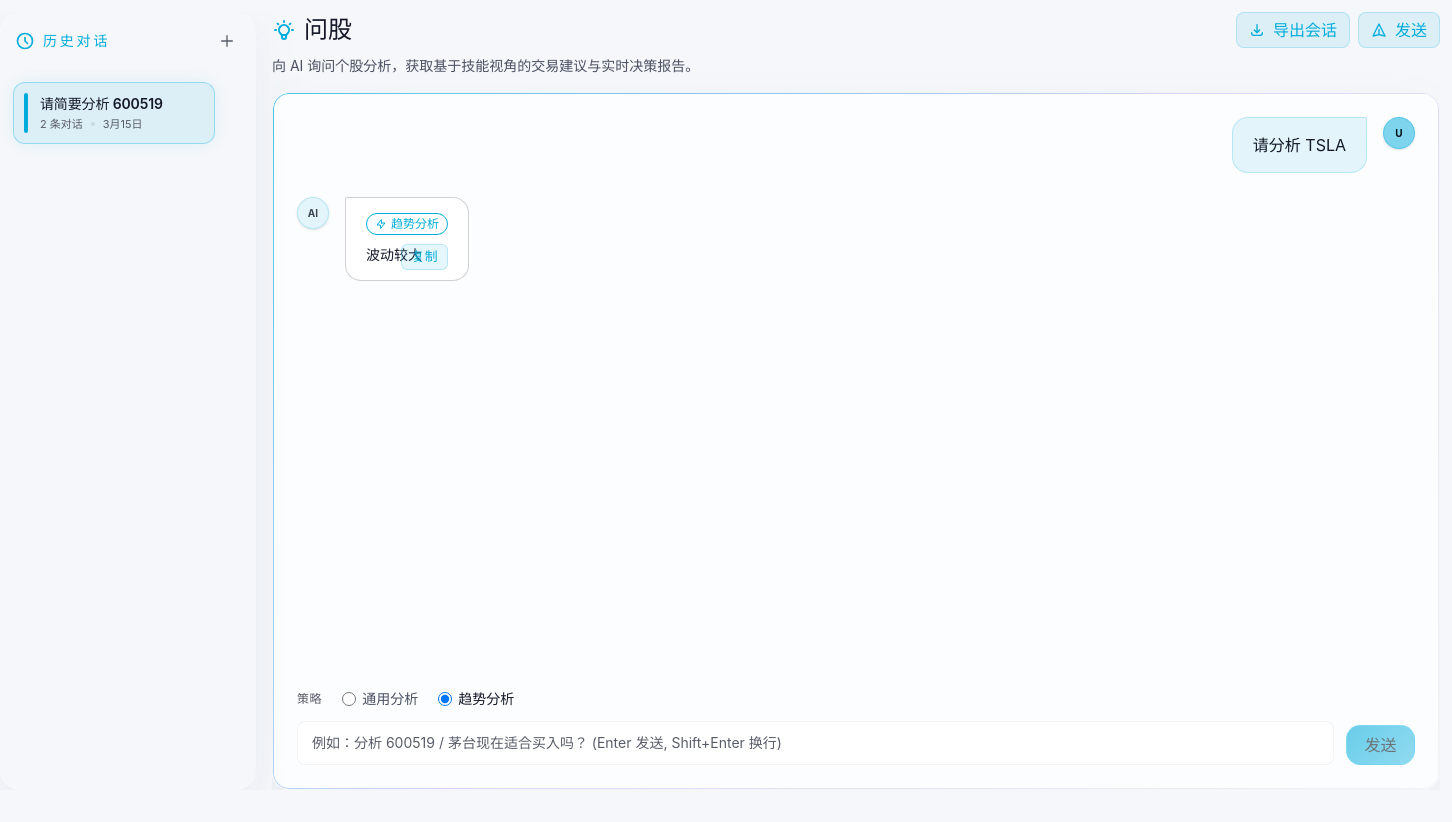
ChatPage › prevents duplicate notification sends while the request is in flight
The width and height of the screenshot is (1452, 822).
Click the button titled "发送到已配置的通知机器人/邮箱" in the row of "问股" at (1399, 30), box [1358, 12, 1440, 48]
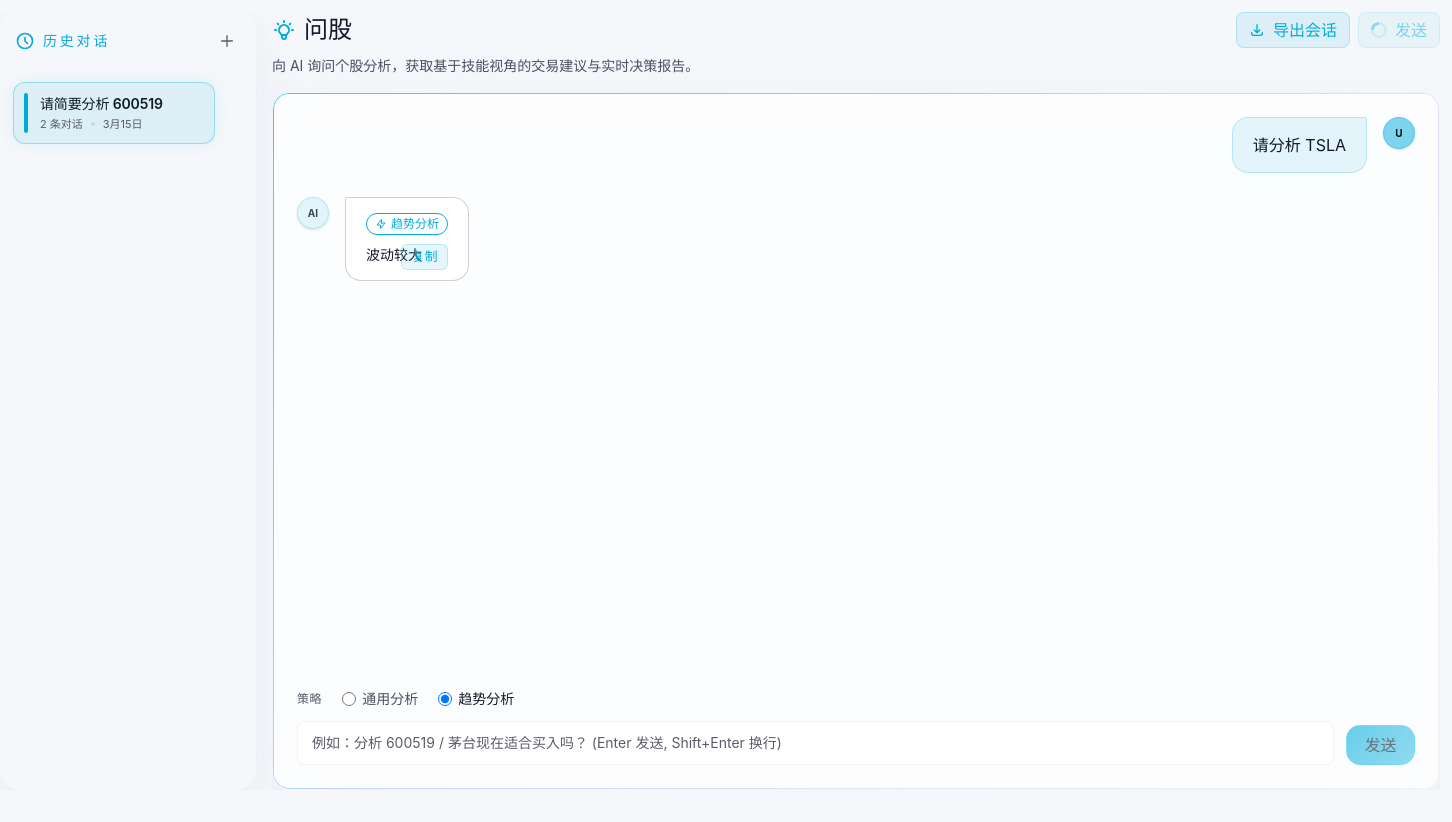
Expected: the button titled "发送到已配置的通知机器人/邮箱" in the row of "问股" is disabled
Click the button titled "发送到已配置的通知机器人/邮箱" in the row of "问股" at (1399, 30), box [1358, 12, 1440, 48]
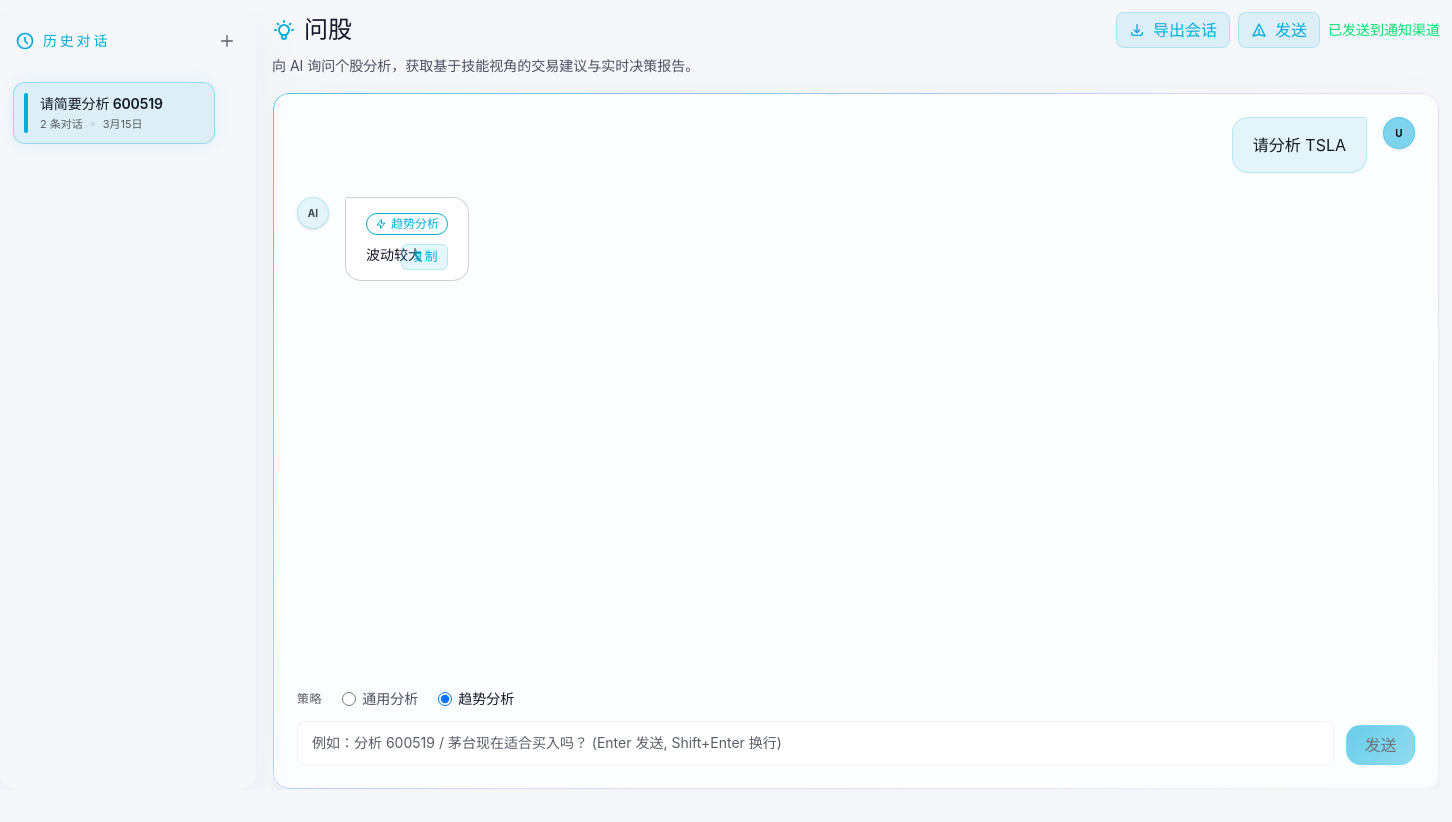
Expected: the button titled "发送到已配置的通知机器人/邮箱" next to "已发送到通知渠道" is enabled, [1238, 12, 1320, 48]
